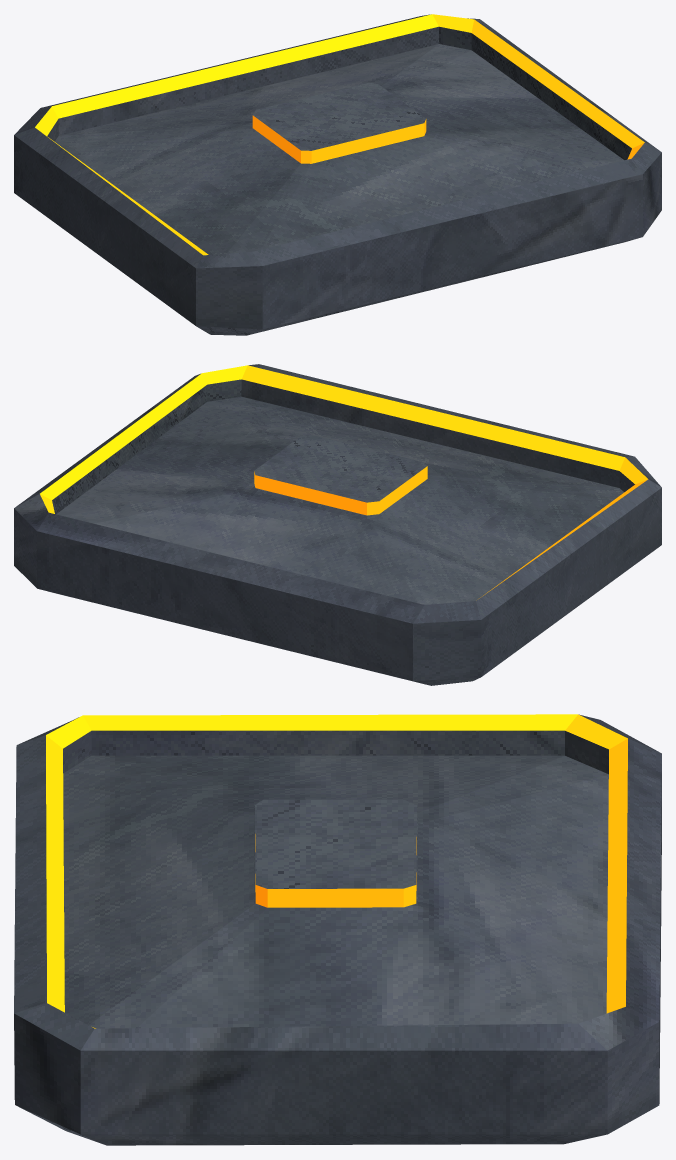
The model's file is s0_Prop_Button_02_Art_01.glb.
3 views of the same model, one above another, from view 1: azimuth 30°, elevation 25°; view 2: azimuth 150°, elevation 25°; view 3: azimuth 270°, elevation 25° (orthographic). The views are drawn at different scales.
Parts seen in each view (by area): view 1: node_Prop_Button_02_Art; view 2: node_Prop_Button_02_Art; view 3: node_Prop_Button_02_Art.
Boxes of the visible parts, box(x1,y1,x2,y2) form: node_Prop_Button_02_Art: box(14, 14, 661, 335); node_Prop_Button_02_Art: box(14, 364, 661, 685); node_Prop_Button_02_Art: box(14, 714, 661, 1145).
Size of the model in its own units: 0.0205 by 0.00435 by 0.0169.
Materials: 2 (1 with a texture image).
